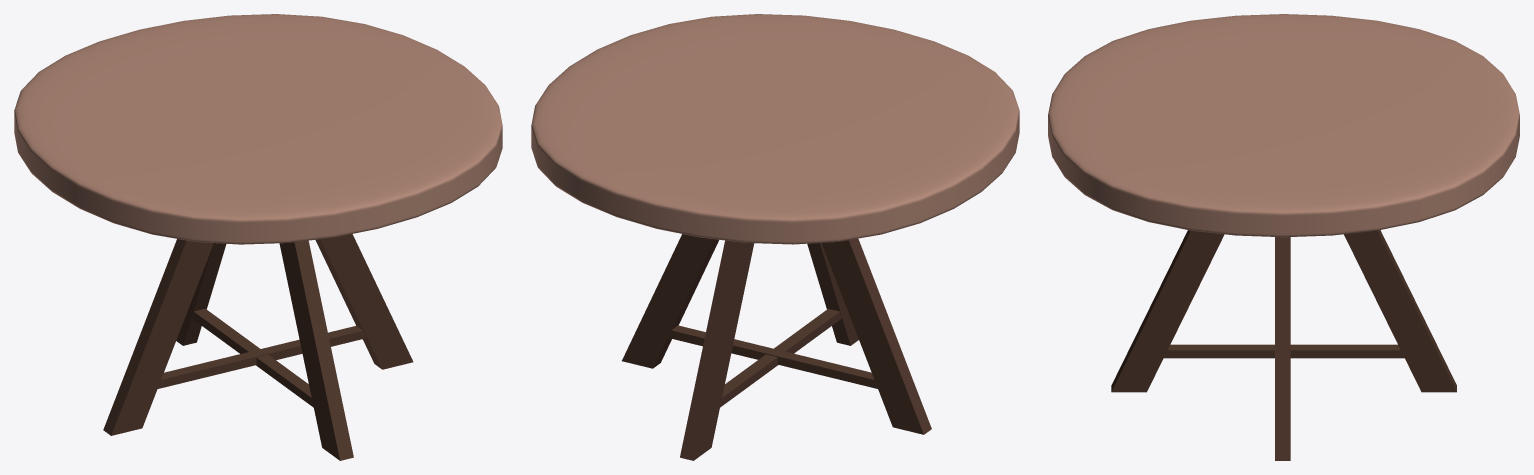
The model's file is Garden_Table.fbx.
3 views of the same model, side by side, from view 1: azimuth 30°, elevation 25°; view 2: azimuth 150°, elevation 25°; view 3: azimuth 270°, elevation 25° (orthographic).
Parts seen in each view (by area): view 1: pCube25; view 2: pCube25; view 3: pCube25.
Boxes of the visible parts, bbox=[...] form: pCube25: bbox=[14, 14, 502, 460]; pCube25: bbox=[531, 14, 1019, 460]; pCube25: bbox=[1048, 14, 1519, 460].
Size of the model in its own units: 210 by 137 by 210.
